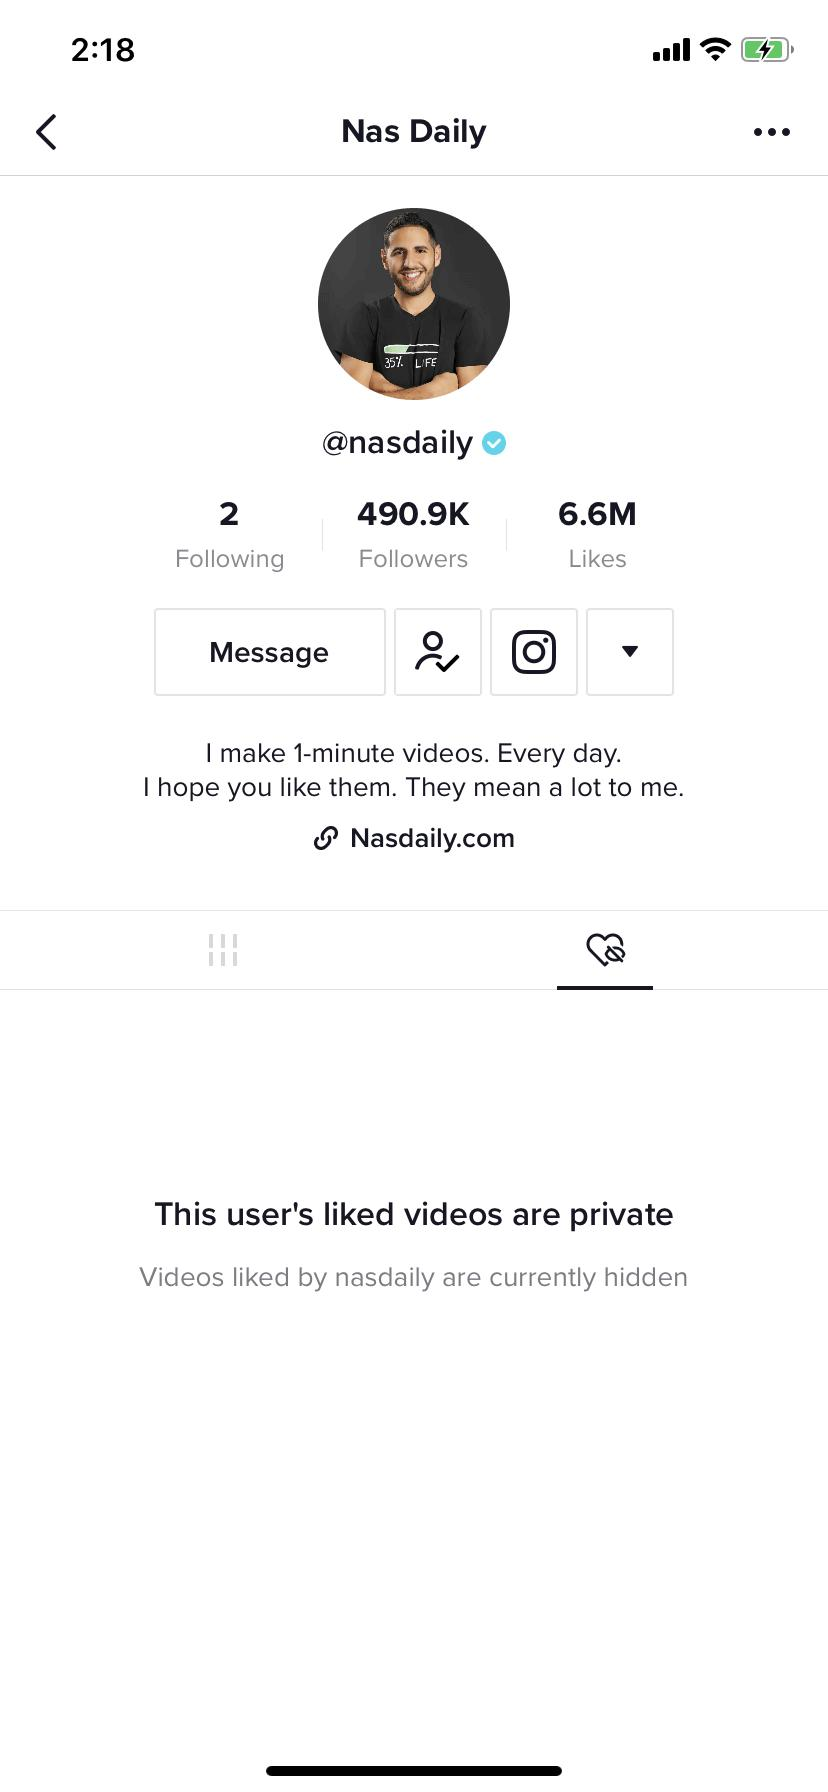Buttons: (145, 597, 392, 709), (387, 595, 488, 709), (582, 598, 686, 704), (492, 597, 584, 705)
